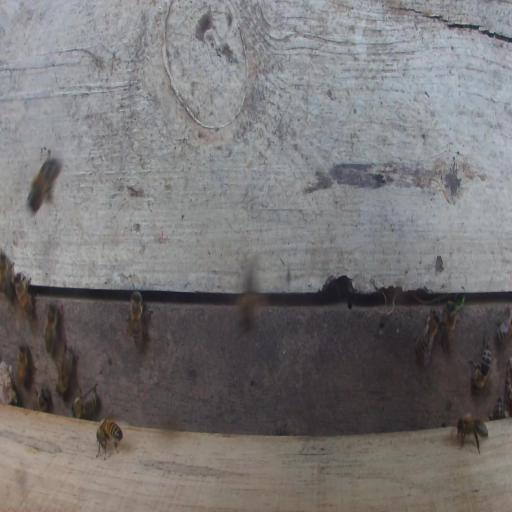nonpollenbee: (26, 157, 62, 213), (414, 306, 441, 366), (95, 409, 125, 461), (54, 338, 79, 399), (467, 332, 491, 391), (457, 412, 489, 455), (125, 289, 148, 347), (69, 382, 101, 421), (44, 300, 65, 359), (14, 271, 35, 318), (1, 249, 16, 301), (441, 299, 456, 351), (16, 343, 30, 392), (32, 381, 52, 412), (495, 309, 511, 344)
